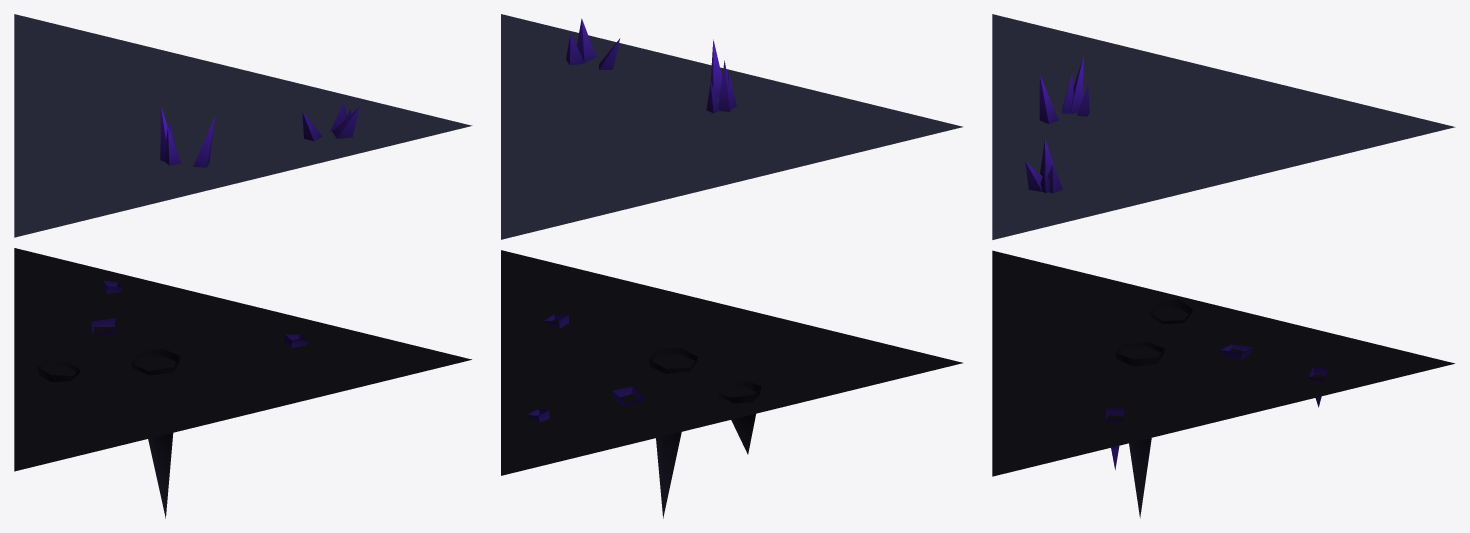
File: MODULE_HOLLOW_FULL_CRYSTALS.fbx
3 renders of one model, left to right at view 1: azimuth 30°, elevation 25°; view 2: azimuth 150°, elevation 25°; view 3: azimuth 270°, elevation 25°, orthographic.
Visible parts, largest first — view 1: MODULE_HOLLOW_FULL_CRYSTALS__export, MODULE_HOLLOW_FULL_CRYSTALS_DECOR__export; view 2: MODULE_HOLLOW_FULL_CRYSTALS__export, MODULE_HOLLOW_FULL_CRYSTALS_DECOR__export; view 3: MODULE_HOLLOW_FULL_CRYSTALS__export, MODULE_HOLLOW_FULL_CRYSTALS_DECOR__export.
Part boxes in pixels (bbox=[...]): MODULE_HOLLOW_FULL_CRYSTALS__export: bbox=[14, 14, 472, 471]; MODULE_HOLLOW_FULL_CRYSTALS_DECOR__export: bbox=[38, 102, 359, 518]; MODULE_HOLLOW_FULL_CRYSTALS__export: bbox=[501, 14, 963, 475]; MODULE_HOLLOW_FULL_CRYSTALS_DECOR__export: bbox=[527, 18, 761, 518]; MODULE_HOLLOW_FULL_CRYSTALS__export: bbox=[992, 14, 1455, 476]; MODULE_HOLLOW_FULL_CRYSTALS_DECOR__export: bbox=[1025, 56, 1328, 518].
Size of the model in its own units: 100 by 92.23 by 86.6.
